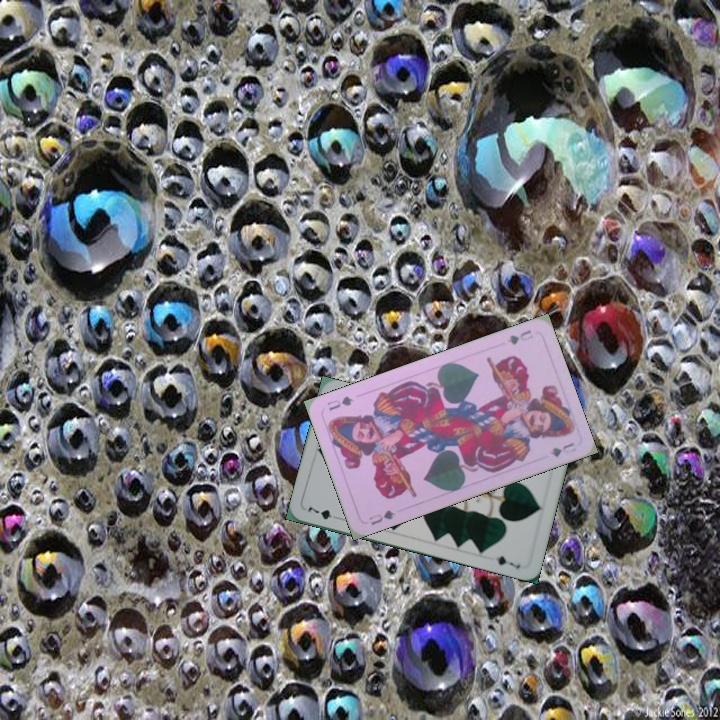G7: (303, 502, 343, 522)
GU: (365, 505, 398, 528), (503, 326, 536, 347)
